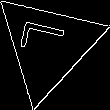L_E: (20, 25, 75, 66)
